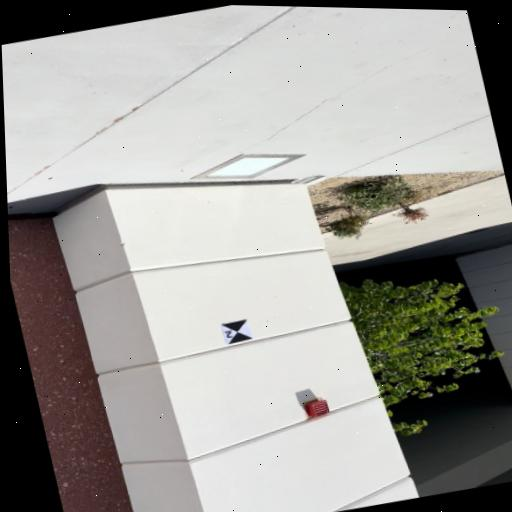target2: (221, 319, 254, 344)
